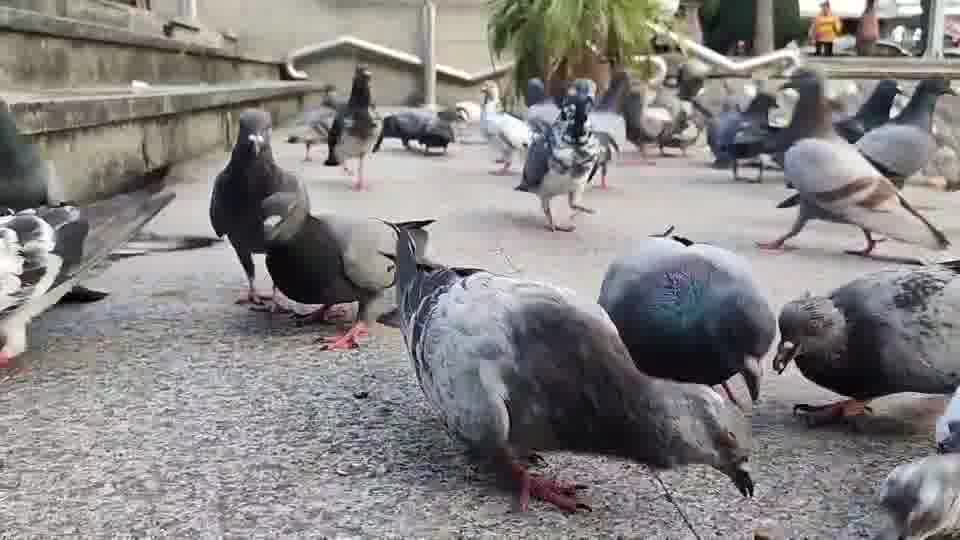Pigeon: (373, 216, 755, 515), (752, 65, 951, 259), (596, 224, 776, 415), (772, 258, 959, 432), (0, 185, 176, 364), (255, 185, 438, 351), (208, 108, 310, 309), (876, 385, 959, 538), (853, 76, 958, 191), (321, 62, 381, 191), (371, 101, 470, 156), (478, 80, 531, 173)
